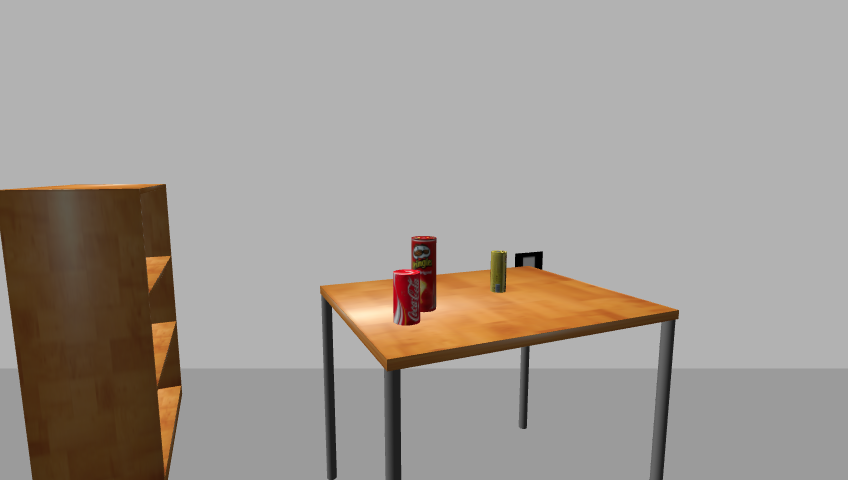aruco marker: (511, 250, 547, 273)
biscuits pack: (489, 250, 508, 294)
bookshelf: (0, 183, 184, 479)
coke can: (391, 269, 423, 326)
dinner table: (313, 266, 688, 478)
pringles can: (409, 235, 440, 315)
